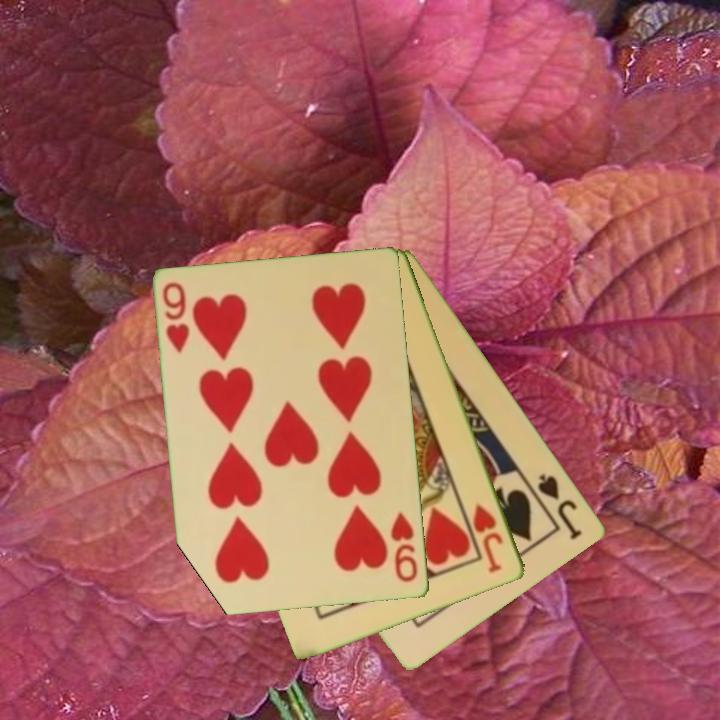9h: (159, 279, 193, 357), (387, 509, 421, 586)
Jh: (469, 501, 506, 577)
Js: (534, 470, 586, 543)
